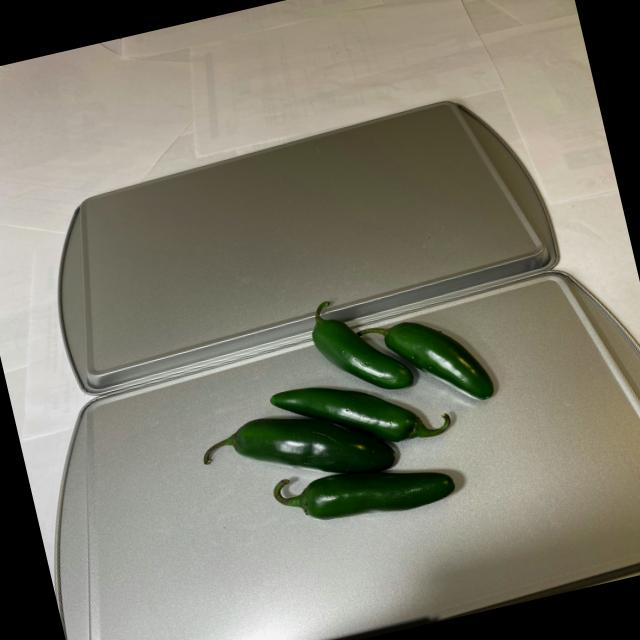chilli: (185, 270, 518, 566)
